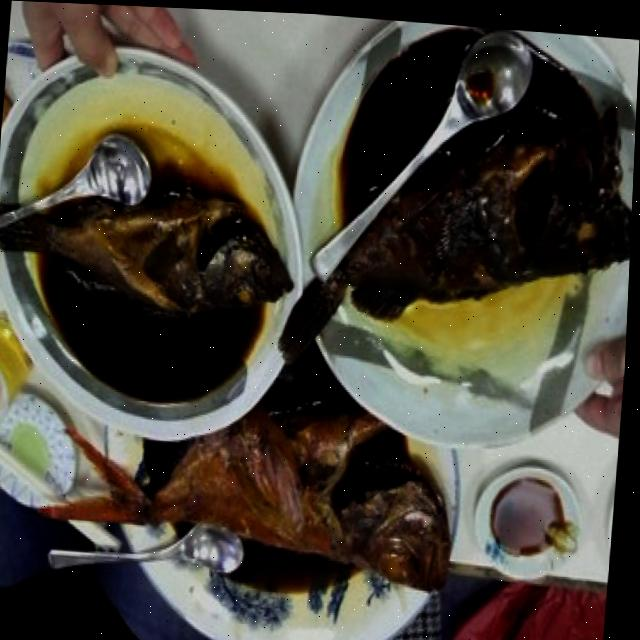熟制海鲜: (27, 353, 486, 612)
